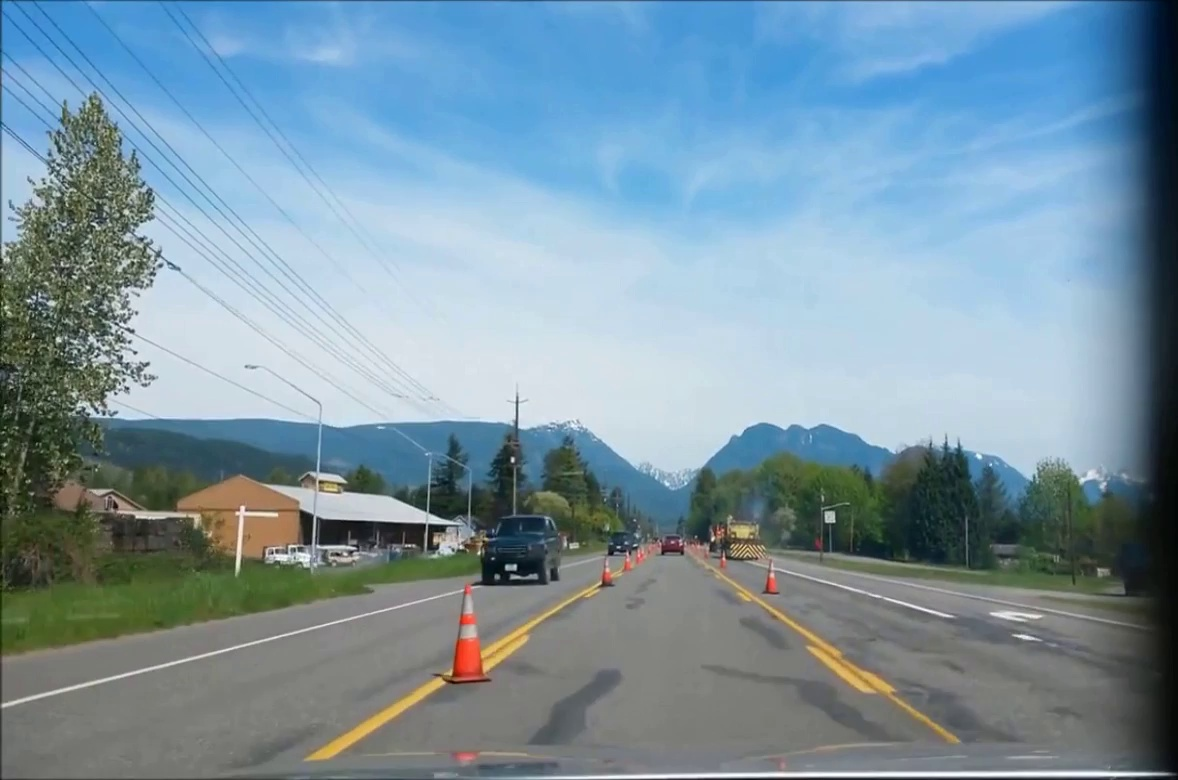Cone: (444, 582, 490, 684), (763, 558, 784, 595), (600, 557, 615, 589)
